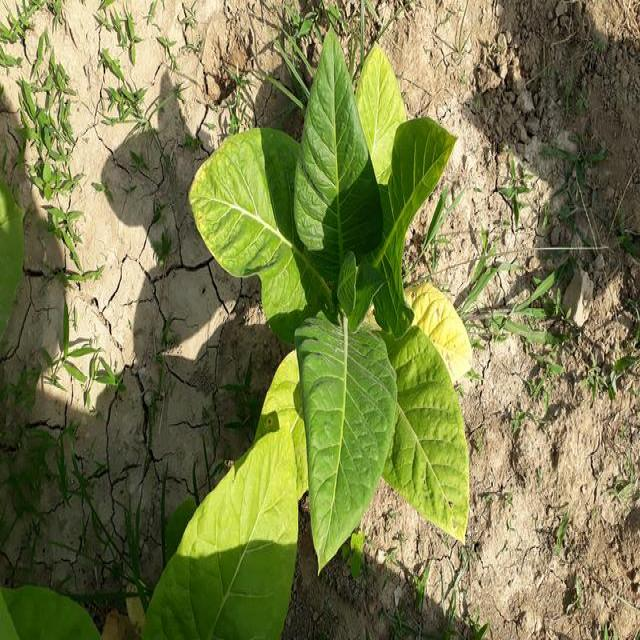crop: (203, 41, 482, 562), (150, 429, 308, 640), (2, 580, 108, 640), (0, 173, 27, 344)
